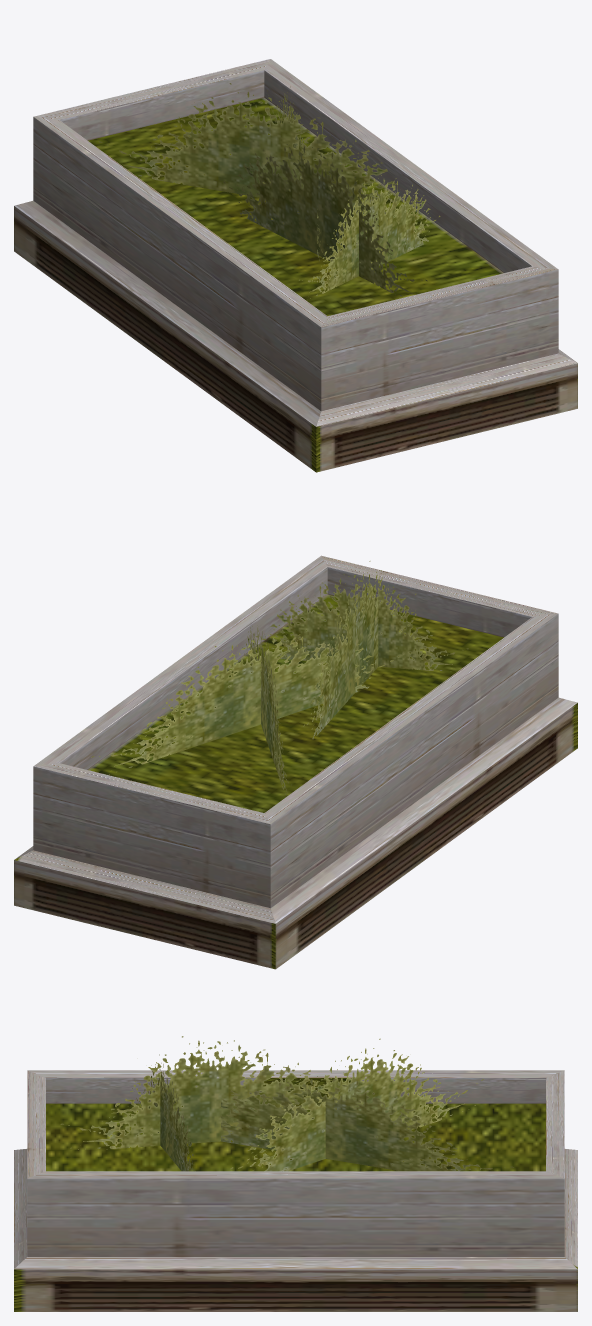
Rendered from M2_PlantPot_Big.glb.
3 renders of one model, top to bottom at view 1: azimuth 30°, elevation 25°; view 2: azimuth 150°, elevation 25°; view 3: azimuth 270°, elevation 25°, orthographic. The views are drawn at different scales.
Visible parts, largest first — view 1: M2_PLANTPOT_BIG; view 2: M2_PLANTPOT_BIG; view 3: M2_PLANTPOT_BIG.
Boxes of the visible parts, left/top/right/bottom form: M2_PLANTPOT_BIG: left=14, top=59, right=577, bottom=472; M2_PLANTPOT_BIG: left=14, top=555, right=577, bottom=969; M2_PLANTPOT_BIG: left=14, top=1036, right=577, bottom=1311.
Bounding box in the file's own units: 2 × 1.69 × 4.
2 materials, 2 textured.
